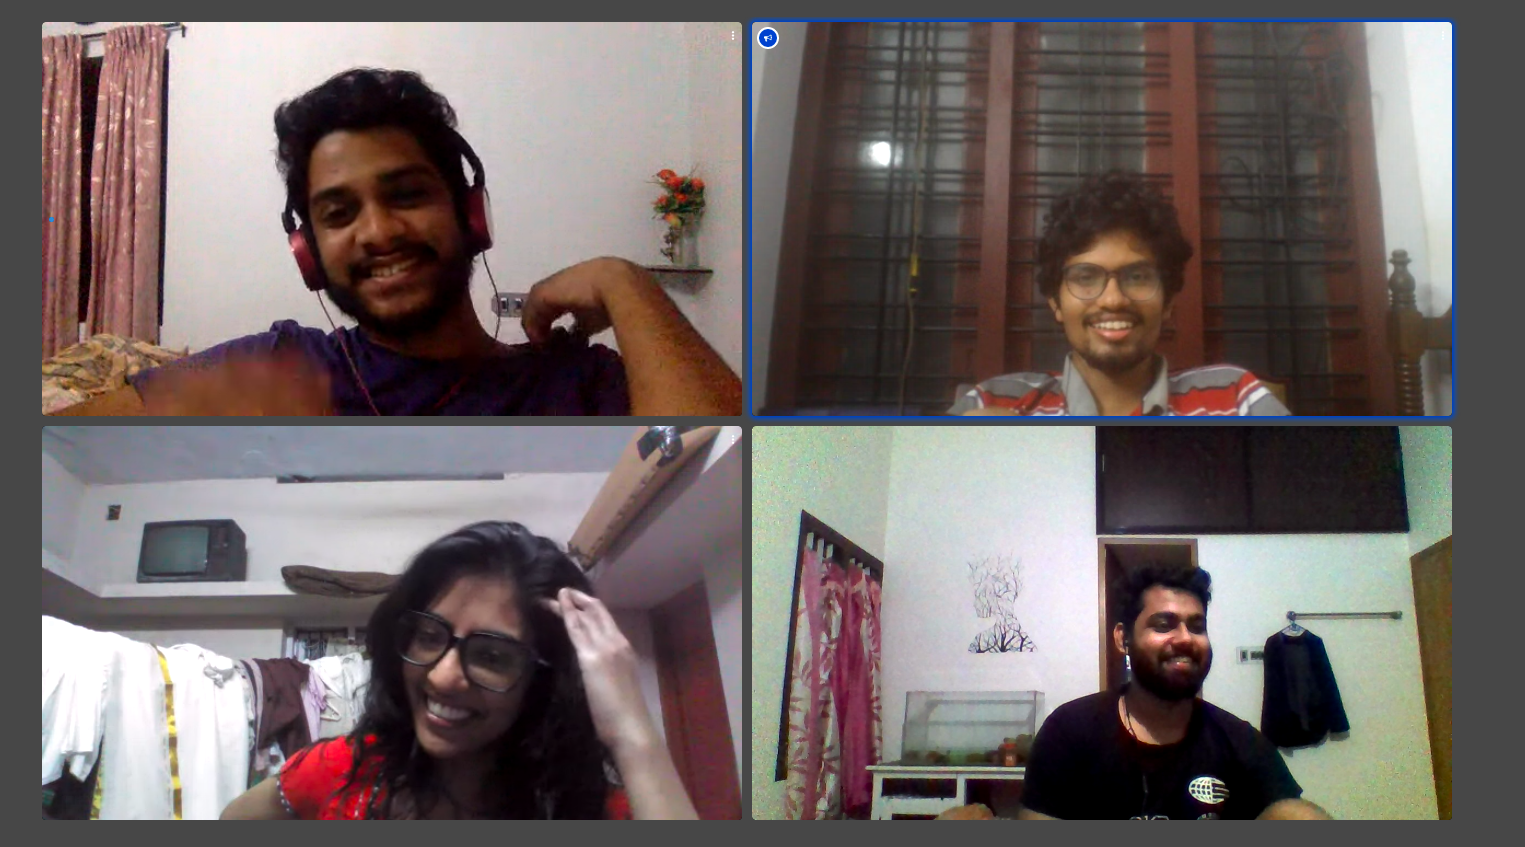person1: (233, 70, 601, 403)
person2: (968, 158, 1265, 414)
person3: (251, 524, 666, 813)
person4: (976, 554, 1315, 819)
